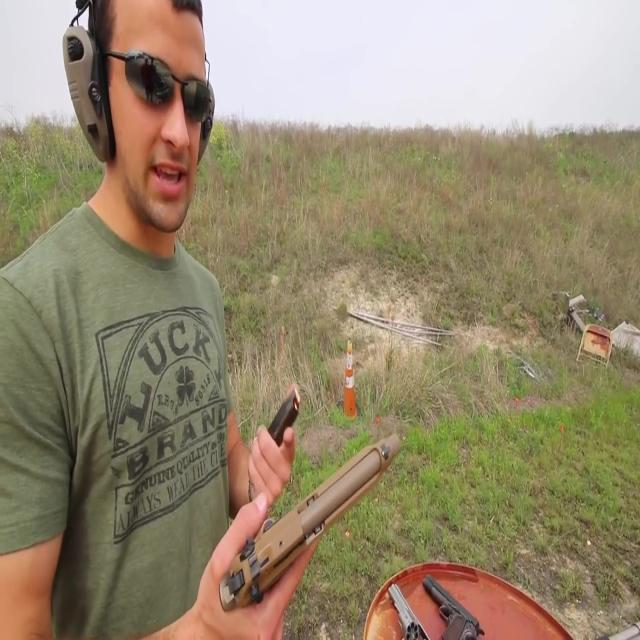Weapon: (176, 335, 528, 640)
